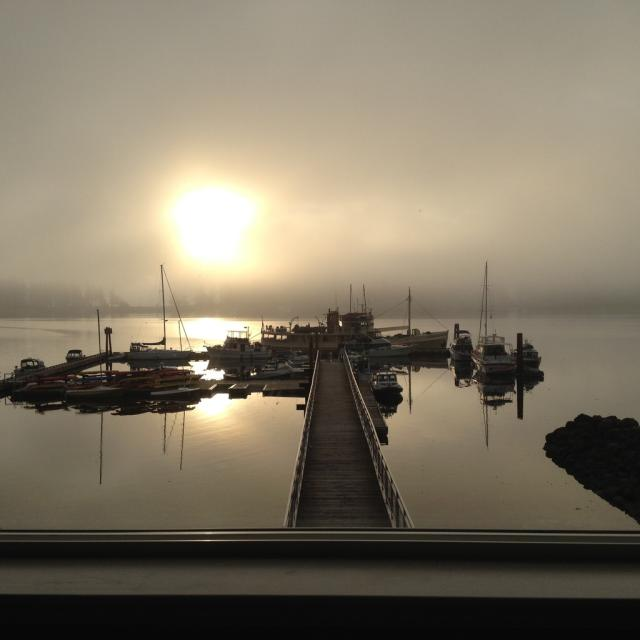Boat: (0, 265, 544, 414), (470, 259, 516, 382)
